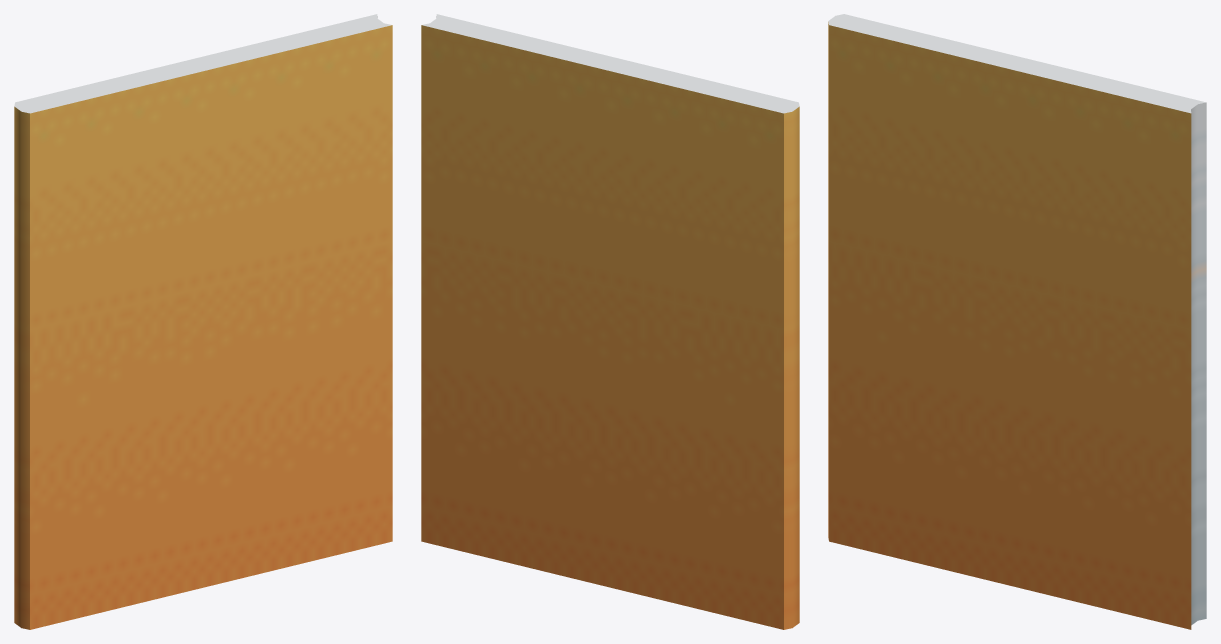
The model's file is comicbook-a.glb.
The picture shows the model from 3 angles, left to right: view 1: azimuth 30°, elevation 25°; view 2: azimuth 150°, elevation 25°; view 3: azimuth 330°, elevation 25°; orthographic projection.
Parts seen in each view (by area): view 1: comicbook_A; view 2: comicbook_A; view 3: comicbook_A.
Boxes of the visible parts, x1,y1,x2,y2 form: comicbook_A: (14,14,392,629); comicbook_A: (421,14,799,629); comicbook_A: (828,14,1206,629).
Size of the model in its own units: 0.5127 by 0.6894 by 0.0367.
Materials: 1 (1 with a texture image).
